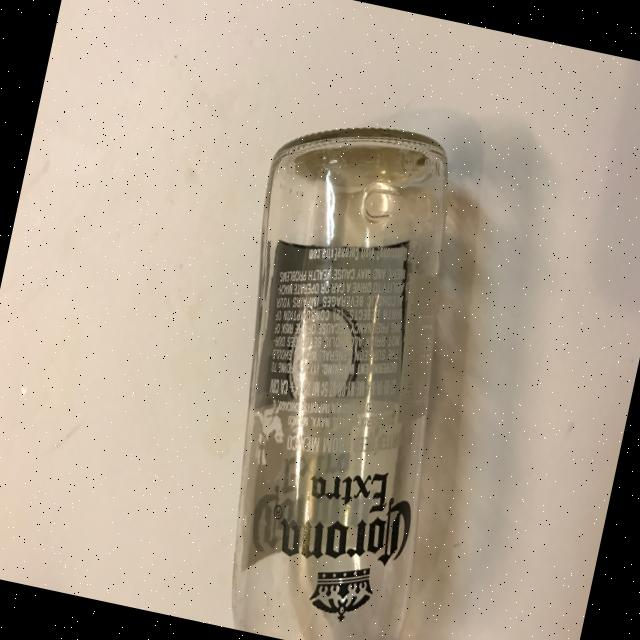glass: (173, 102, 506, 640)
